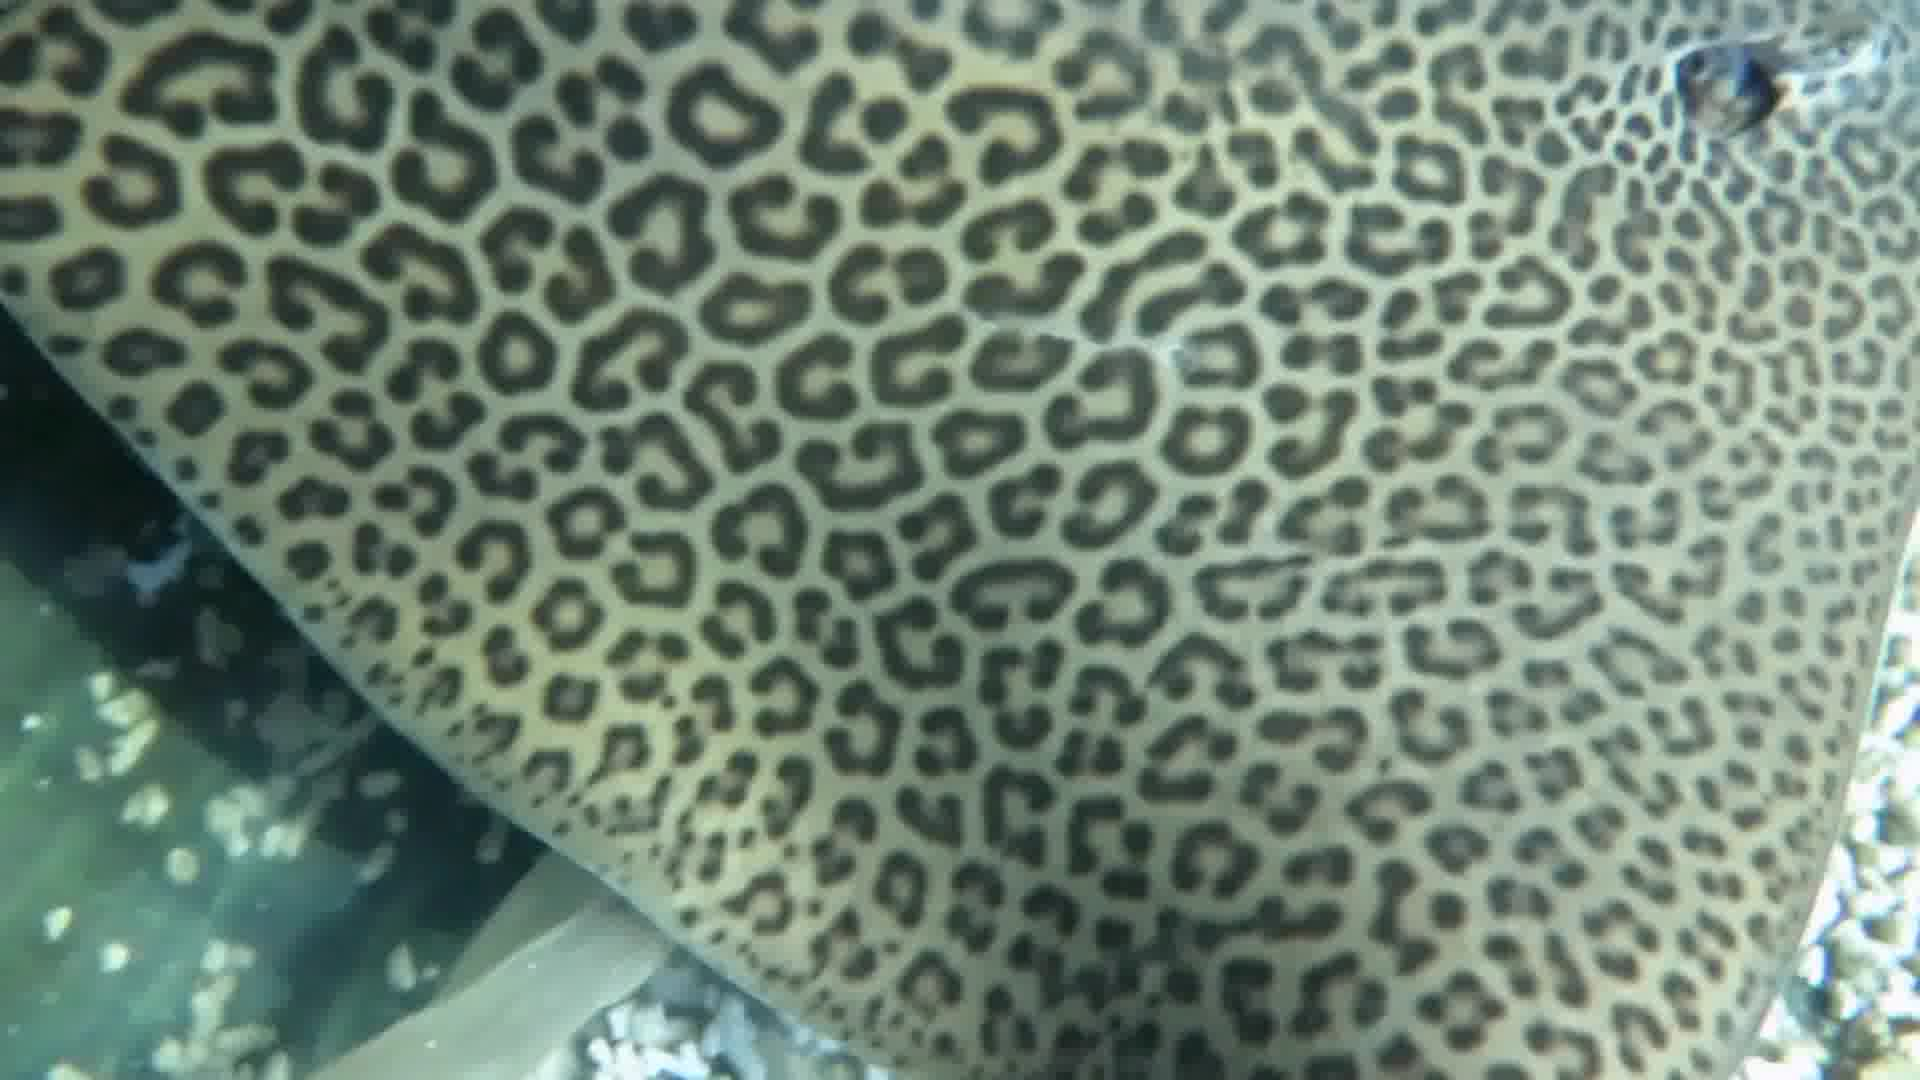Himantura uarnak: (7, 1, 1898, 1080)
